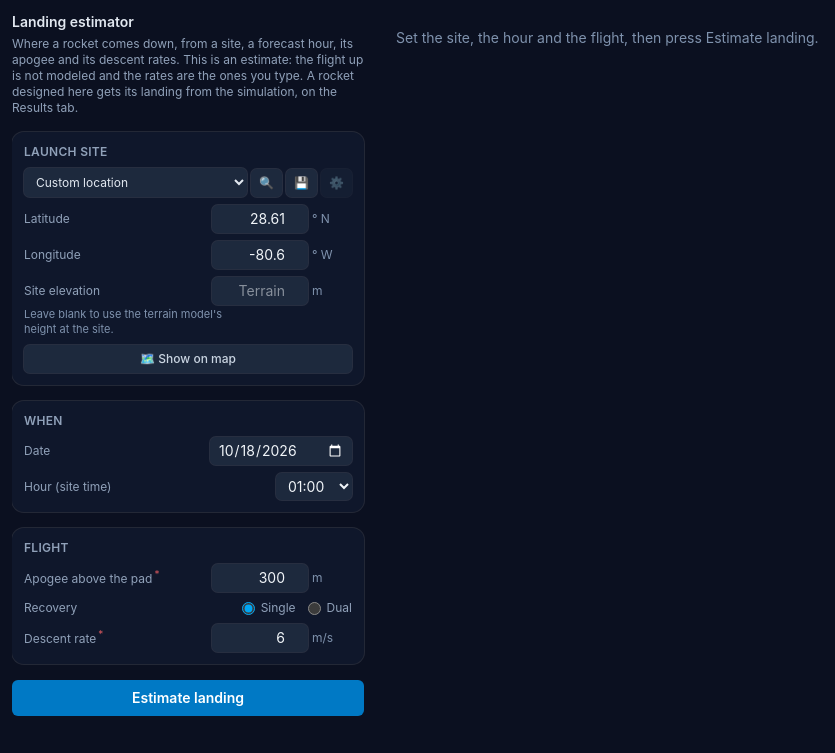
it: LandingEstimator › starts from a single chute, and gives a drogue its own faster rate
Expected: the number field labelled "Descent rate" holds "6", [212, 624, 308, 652]
Step 1. Click the radio button labelled "Dual" → point(314, 608), box [308, 602, 321, 615]
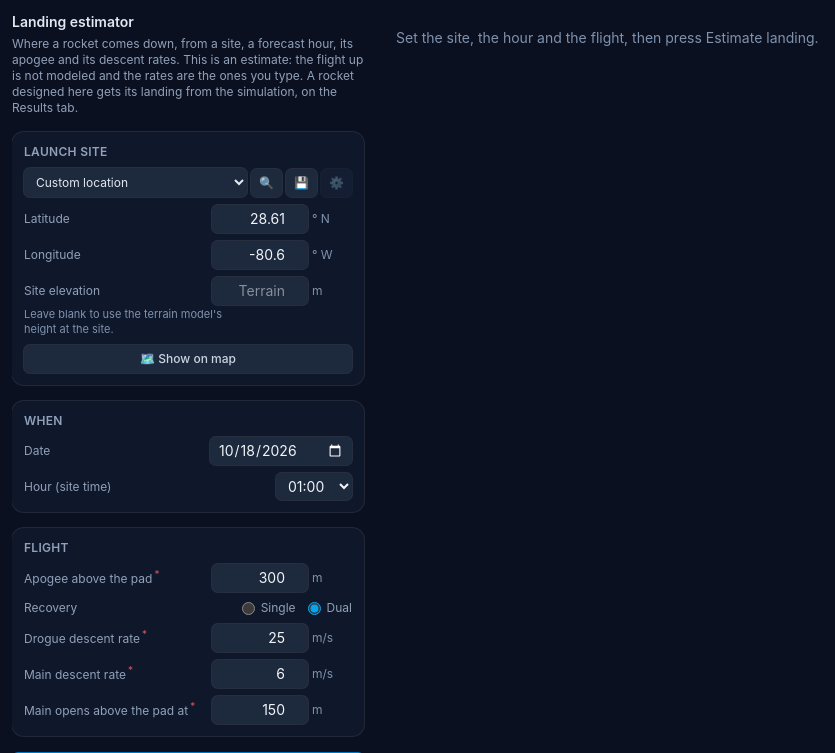
Expected: the number field labelled "Drogue descent rate" holds "25", [212, 624, 308, 652]
Expected: the number field labelled "Main descent rate" holds "6", [212, 660, 308, 688]
Expected: the number field labelled "Main opens above the pad at" is shown, [212, 696, 308, 724]
